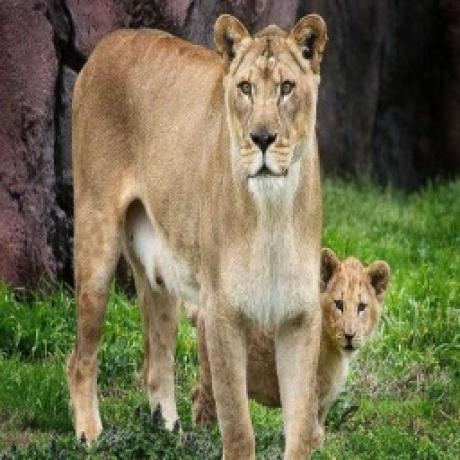Lion: (68, 11, 326, 460), (192, 248, 394, 421)
